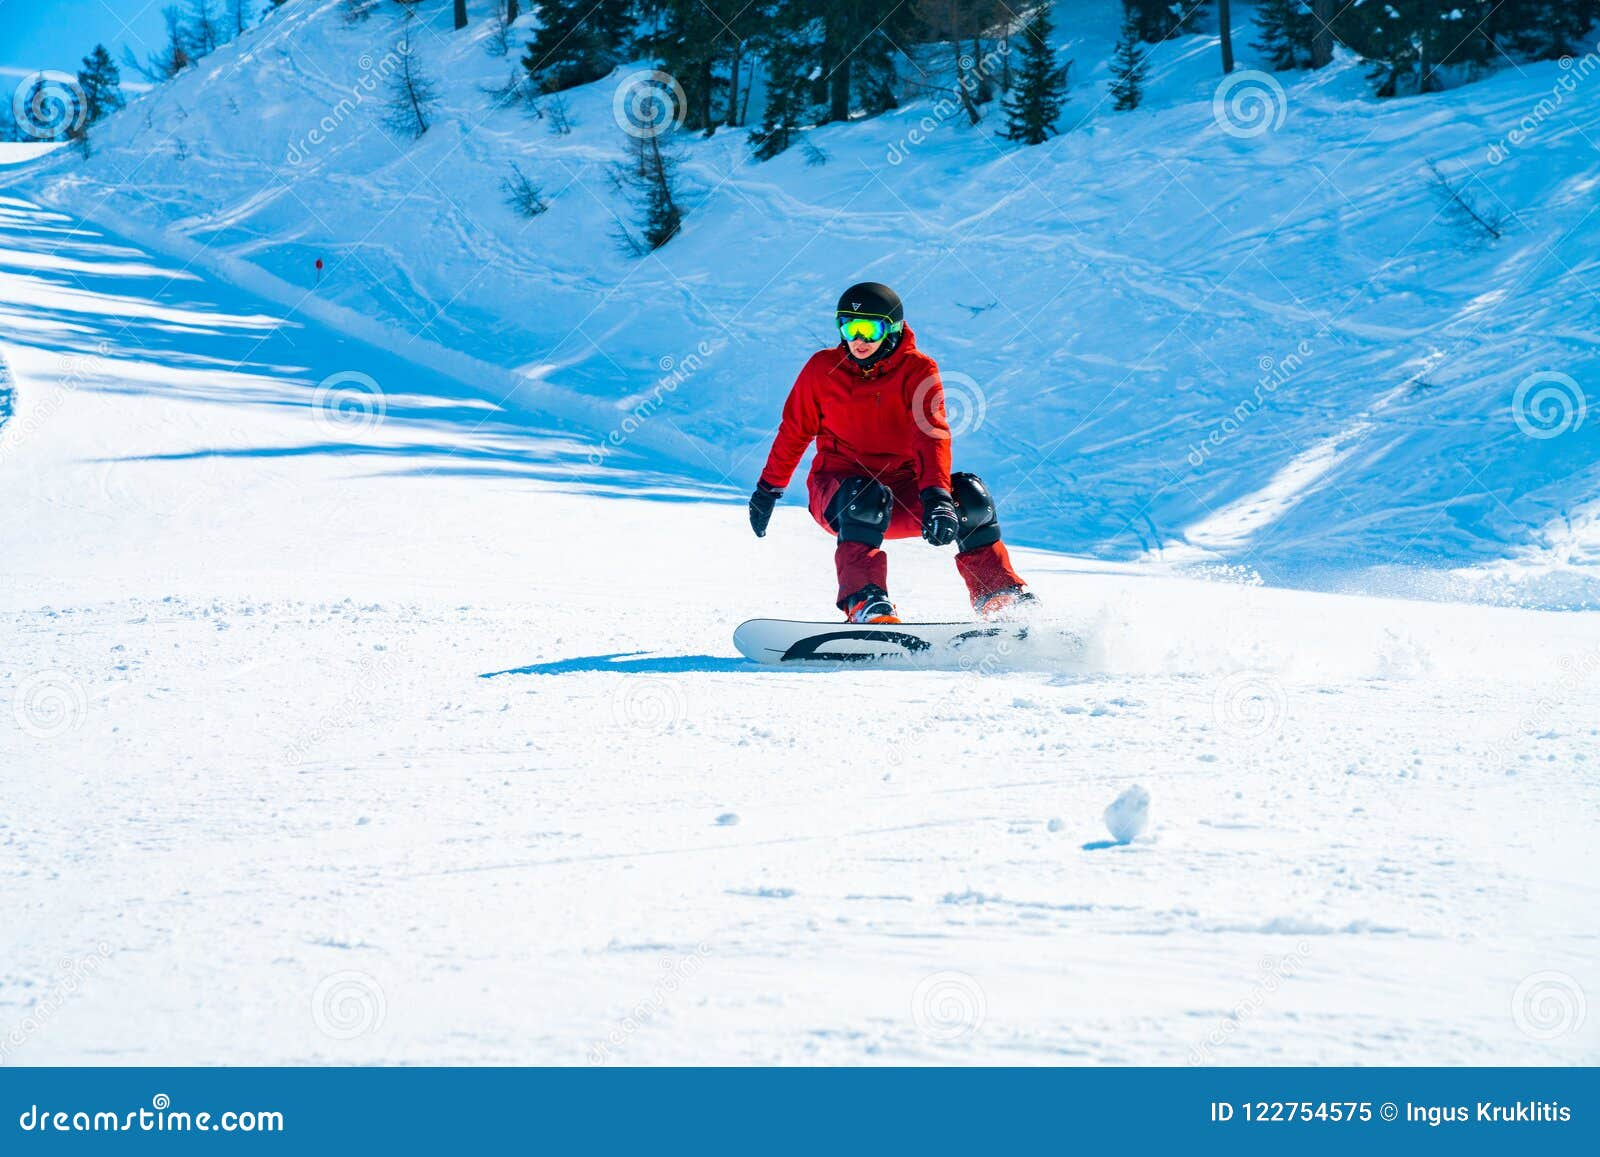snowboarder: (729, 270, 1102, 690)
